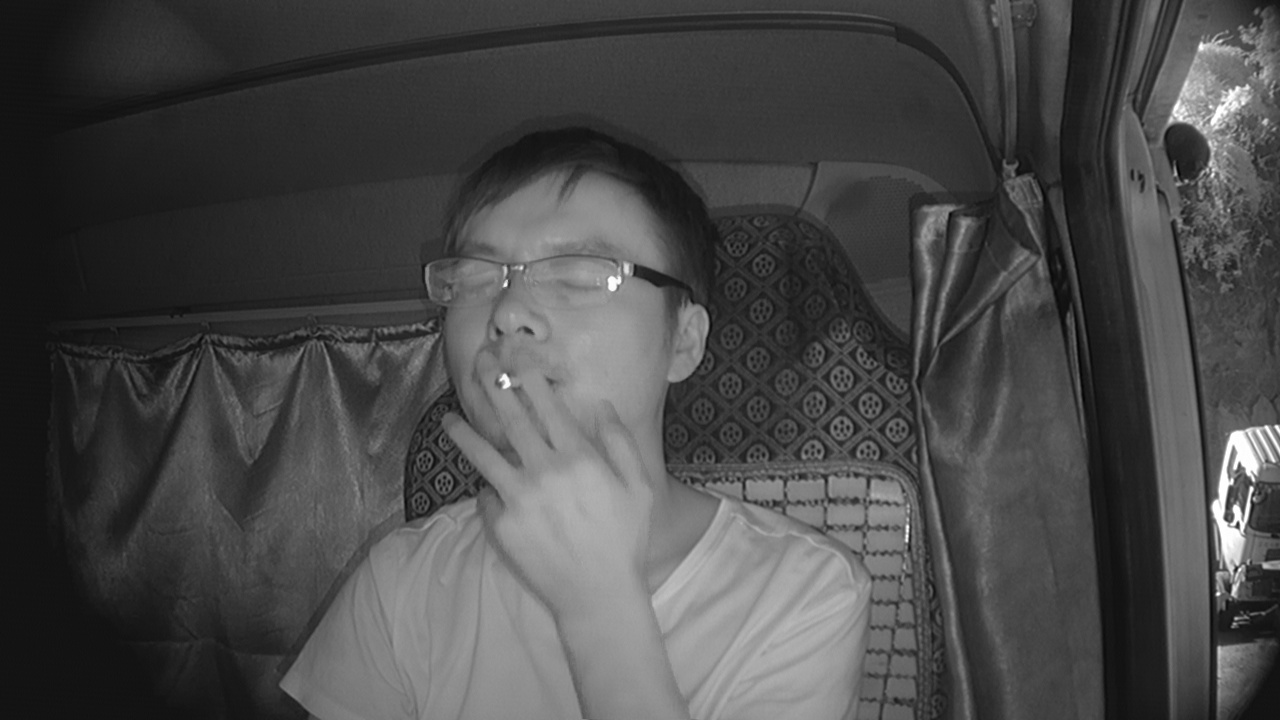hand: (462, 347, 642, 572)
